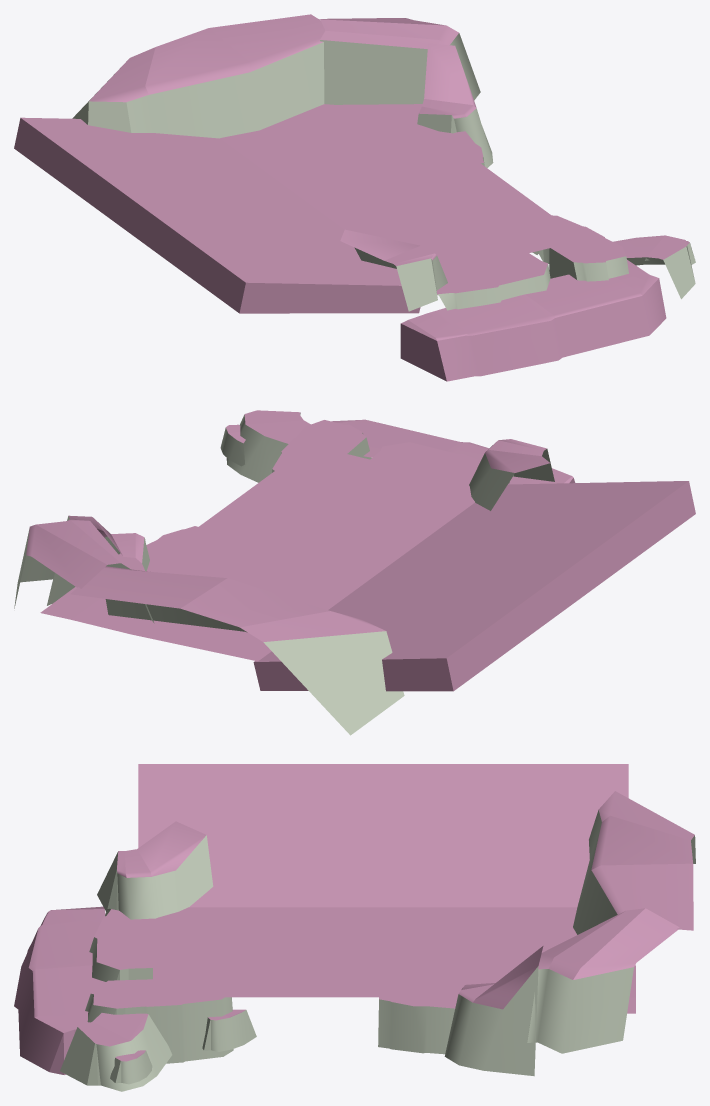
File: terrainReimport.fbx
3 renders of one model, top to bottom at view 1: azimuth 30°, elevation 25°; view 2: azimuth 150°, elevation 25°; view 3: azimuth 270°, elevation 25°, orthographic. The views are drawn at different scales.
Visible parts, largest first — view 1: caveSlope_OBJ, mainTerrain_OBJ, rightCliff02_OBJ, airportCliff_OBJ, rightCliff01_OBJ, frontRightCliff02_OBJ, leftCliff_OBJ, frontLeftCliff02_OBJ, frontLeftCliff03_OBJ, frontLeftCliff01_OBJ, frontRightCliff01_OBJ; view 2: caveSlope_OBJ, mainTerrain_OBJ, rightCliff02_OBJ, rightCliff01_OBJ, leftCliff_OBJ, frontLeftCliff03_OBJ, airportCliff_OBJ, frontLeftCliff02_OBJ, frontRightCliff02_OBJ, frontRightCliff01_OBJ, frontLeftCliff01_OBJ, frontLeftCliff04_OBJ; view 3: caveSlope_OBJ, mainTerrain_OBJ, rightCliff01_OBJ, rightCliff02_OBJ, airportCliff_OBJ, frontRightCliff02_OBJ, leftCliff_OBJ, frontLeftCliff03_OBJ, frontLeftCliff01_OBJ, frontRightCliff01_OBJ, frontLeftCliff02_OBJ, frontLeftCliff05_OBJ (+1 smaller).
Part boxes in pixels (box(x1,y1,x2,y2)): caveSlope_OBJ: box(14, 117, 420, 313); mainTerrain_OBJ: box(220, 104, 581, 310); rightCliff02_OBJ: box(72, 14, 325, 138); airportCliff_OBJ: box(400, 260, 666, 381); rightCliff01_OBJ: box(319, 18, 480, 104); frontRightCliff02_OBJ: box(417, 43, 493, 167); leftCliff_OBJ: box(340, 229, 447, 311); frontLeftCliff02_OBJ: box(549, 233, 628, 281); frontLeftCliff03_OBJ: box(613, 235, 695, 299); frontLeftCliff01_OBJ: box(532, 215, 608, 263); frontRightCliff01_OBJ: box(436, 131, 484, 166); caveSlope_OBJ: box(253, 481, 695, 691); mainTerrain_OBJ: box(40, 442, 509, 661); rightCliff02_OBJ: box(70, 566, 404, 735); rightCliff01_OBJ: box(14, 519, 154, 623); leftCliff_OBJ: box(469, 439, 554, 510); frontLeftCliff03_OBJ: box(226, 410, 310, 482); airportCliff_OBJ: box(331, 419, 575, 484); frontLeftCliff02_OBJ: box(290, 420, 371, 459); frontRightCliff02_OBJ: box(47, 515, 149, 605); frontRightCliff01_OBJ: box(131, 526, 213, 565); frontLeftCliff01_OBJ: box(272, 433, 323, 476); frontLeftCliff04_OBJ: box(220, 424, 245, 466); caveSlope_OBJ: box(138, 764, 628, 907); mainTerrain_OBJ: box(89, 907, 635, 1013); rightCliff01_OBJ: box(527, 908, 679, 1053); rightCliff02_OBJ: box(573, 791, 695, 934); airportCliff_OBJ: box(14, 906, 105, 1074); frontRightCliff02_OBJ: box(444, 946, 543, 1076); leftCliff_OBJ: box(97, 821, 213, 919); frontLeftCliff03_OBJ: box(60, 1013, 172, 1091); frontLeftCliff01_OBJ: box(123, 984, 233, 1063); frontRightCliff01_OBJ: box(378, 997, 457, 1054); frontLeftCliff02_OBJ: box(85, 979, 162, 1022); frontLeftCliff05_OBJ: box(202, 1009, 256, 1051).
Bounding box in the file's own units: 369 × 91.55 × 450.
